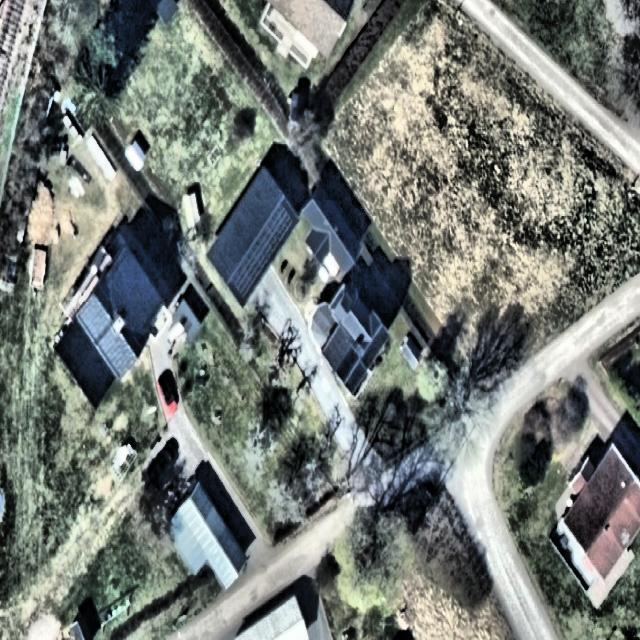roof_pv: (230, 237, 258, 304), (258, 208, 278, 280), (278, 200, 296, 250)
